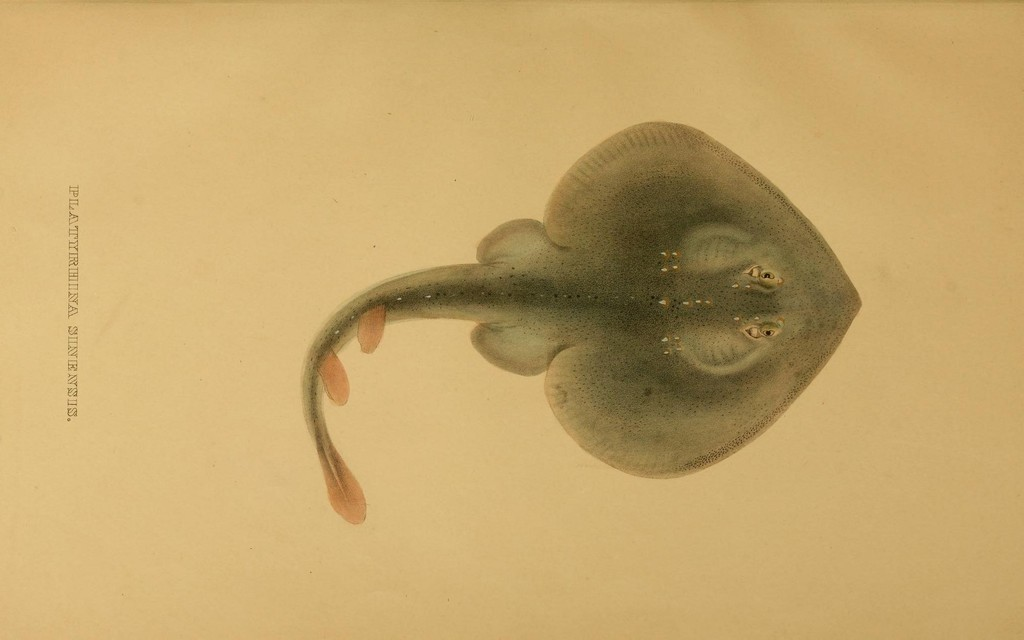Animal: (297, 124, 860, 522)
